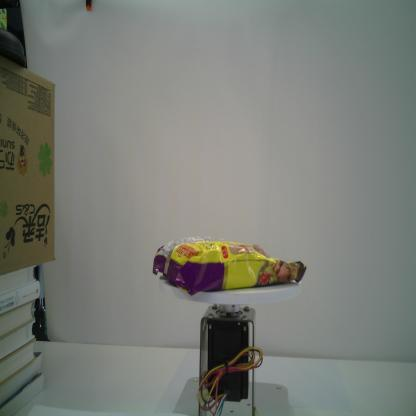Instant Noodles: (151, 234, 309, 297)
